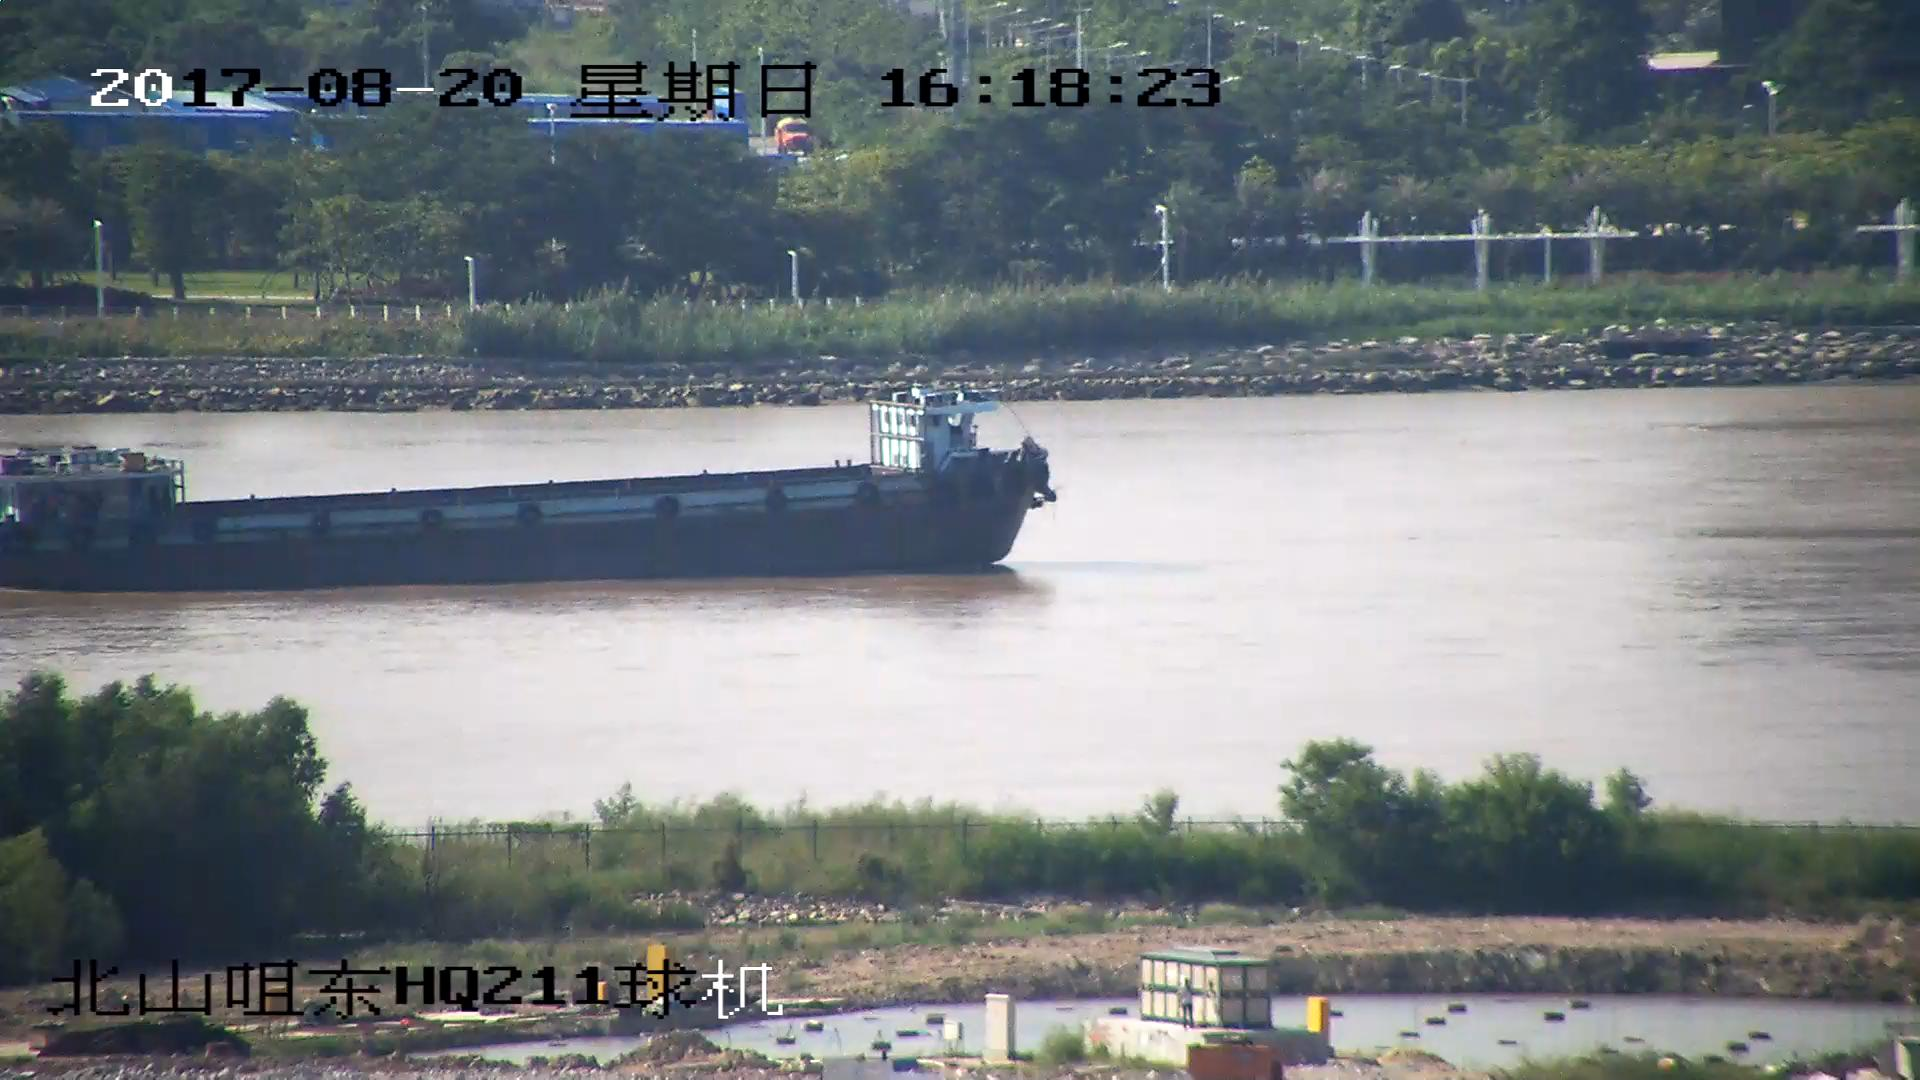general cargo ship: (1, 391, 1057, 578)
